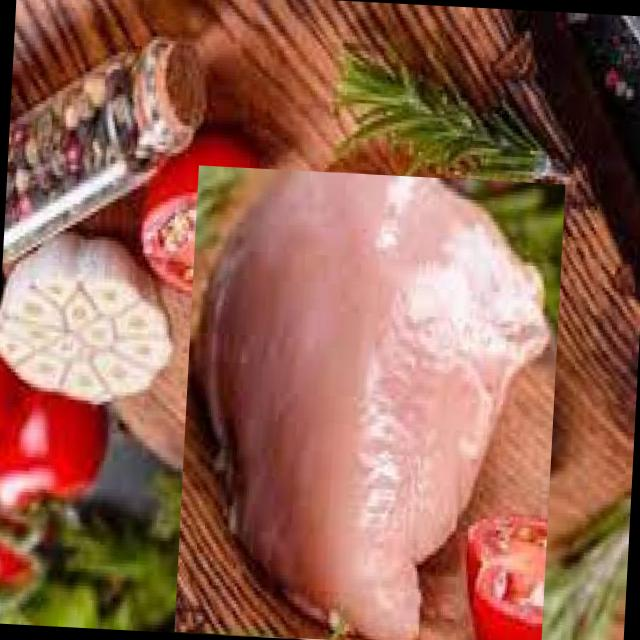chicken: (174, 165, 566, 640)
